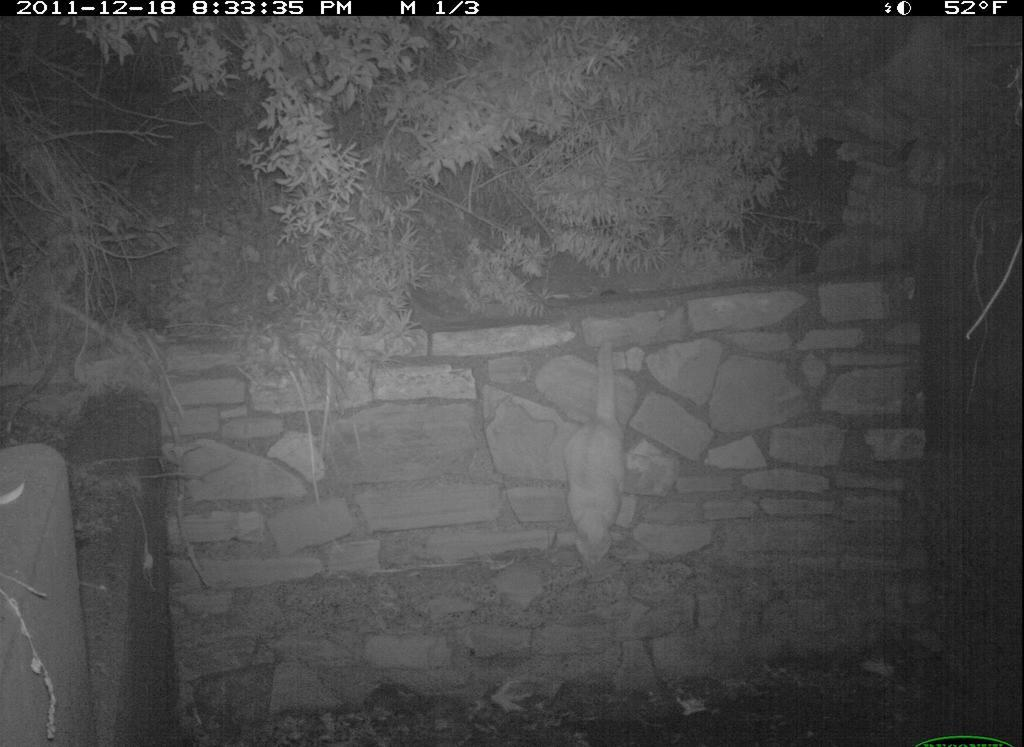cat: (555, 335, 661, 602)
